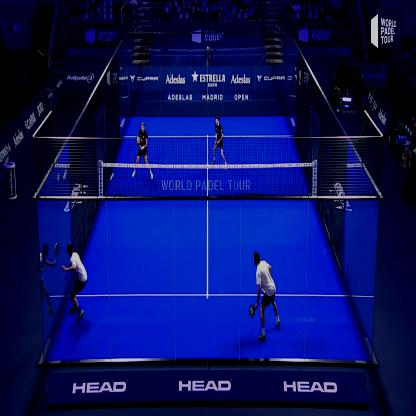ball: (108, 170, 116, 186)
